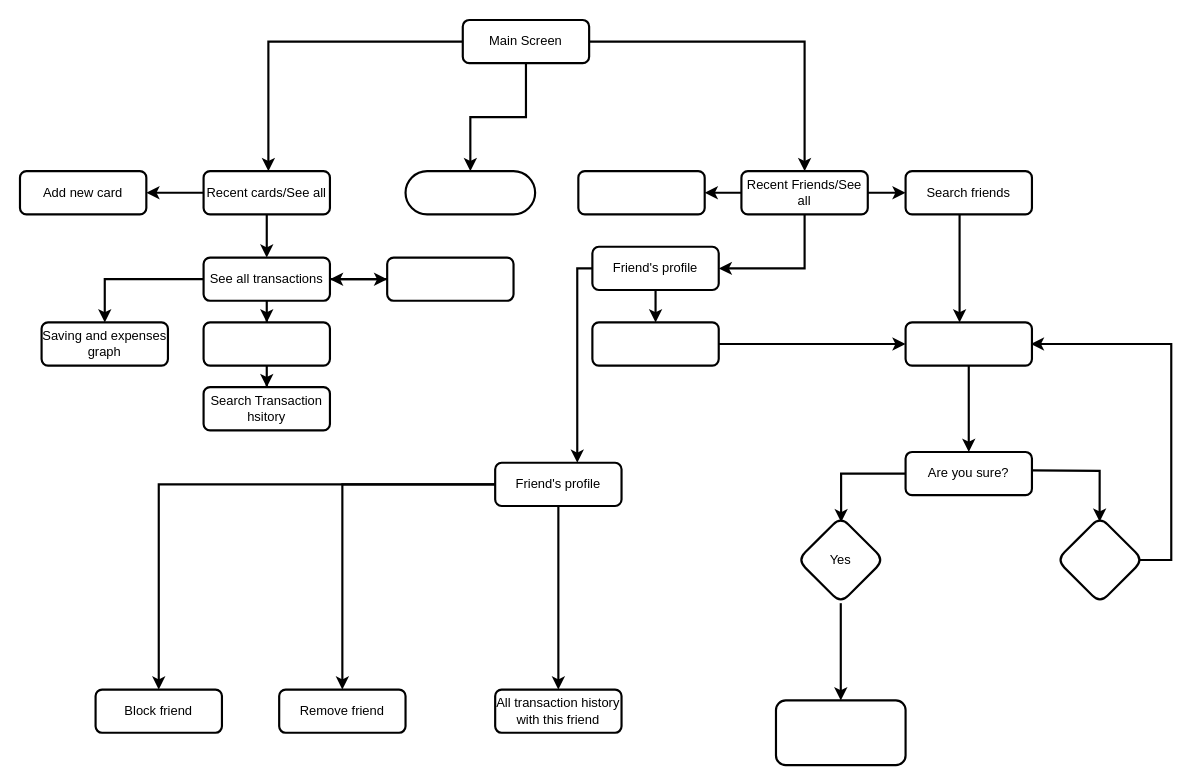
Image size: 1199x784. Some labels were removed from this diagram. Here are the shapes that lost their labels. From the top down, the centre of each, then its label:
At (x=470, y=192): "Total Amount".
At (x=641, y=192): "Add/Remove friends".
At (x=450, y=278): "change card".
At (x=266, y=343): "Transaction history".
At (x=655, y=343): "Give/Request".
At (x=968, y=343): "Select amount".
At (x=1099, y=559): "No".
At (x=840, y=732): "Request sent/Amount sent".
